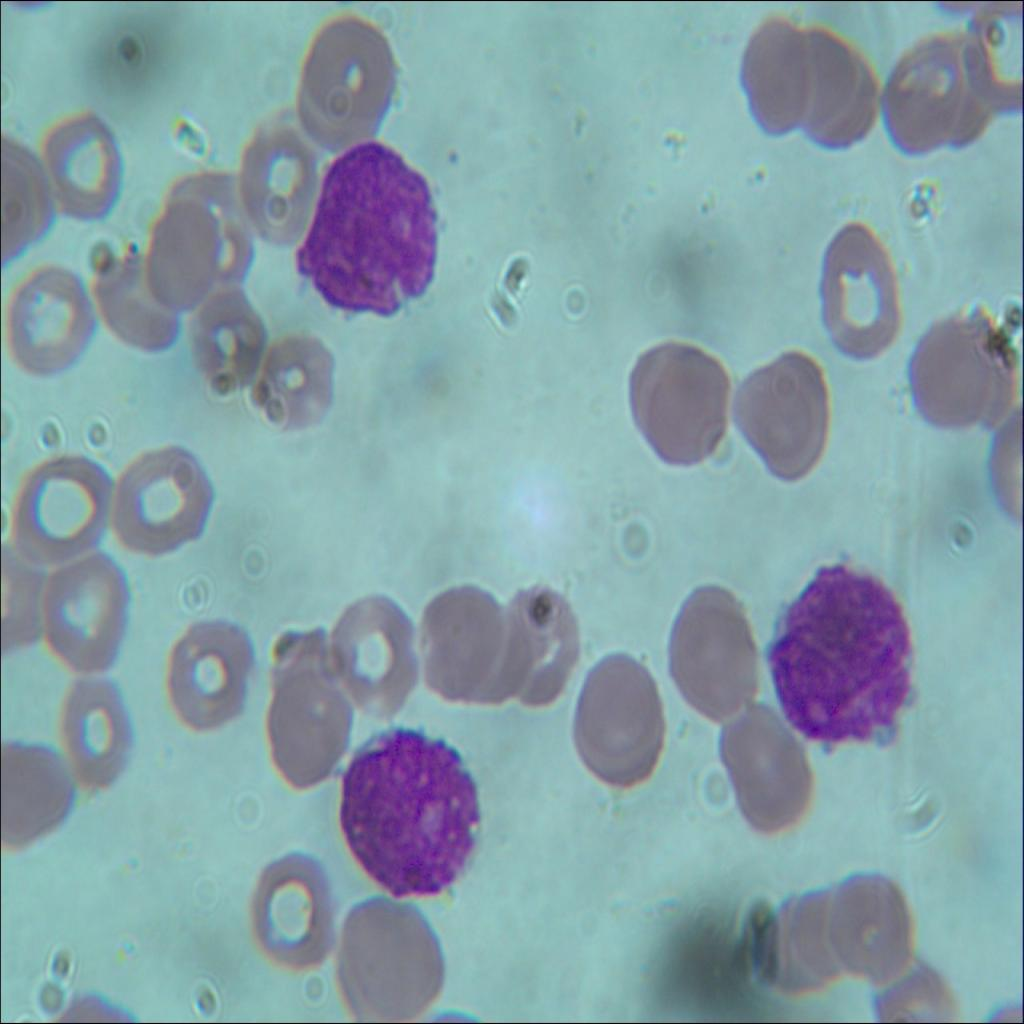Eritrosit: (663, 569, 764, 721), (331, 895, 448, 1019), (713, 700, 821, 826), (622, 337, 728, 464), (731, 344, 829, 479), (576, 642, 664, 792), (290, 17, 394, 141), (114, 444, 222, 561), (491, 572, 576, 714), (409, 581, 506, 698), (811, 228, 898, 358), (11, 452, 113, 561), (906, 308, 993, 435), (263, 666, 354, 787), (0, 261, 93, 379), (324, 594, 416, 712), (34, 554, 126, 668), (251, 850, 336, 972), (164, 616, 254, 728), (0, 738, 95, 841), (886, 37, 966, 157), (188, 281, 269, 398), (178, 170, 260, 284), (98, 242, 178, 357), (34, 105, 119, 212), (811, 24, 881, 152), (246, 338, 338, 431), (61, 666, 133, 784), (236, 131, 313, 241), (829, 882, 911, 980), (756, 898, 838, 992), (146, 198, 220, 302), (742, 15, 812, 124), (958, 15, 1023, 122)
Limfoblast: (294, 142, 439, 325), (335, 722, 481, 901), (772, 571, 906, 738)
Platelet: (444, 138, 466, 168)
